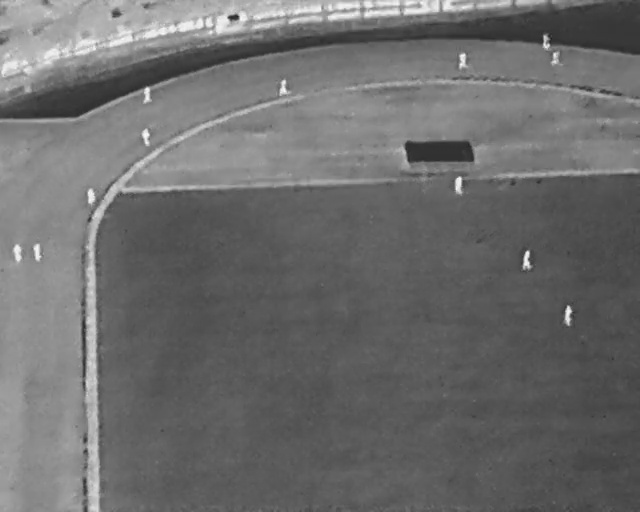Person: (522, 250, 533, 272), (563, 304, 573, 327), (279, 78, 291, 96), (12, 244, 23, 262), (551, 51, 563, 67), (141, 128, 151, 147), (458, 52, 468, 71), (33, 244, 43, 262), (87, 188, 96, 207), (454, 176, 463, 195), (143, 87, 153, 104), (542, 33, 551, 51)
